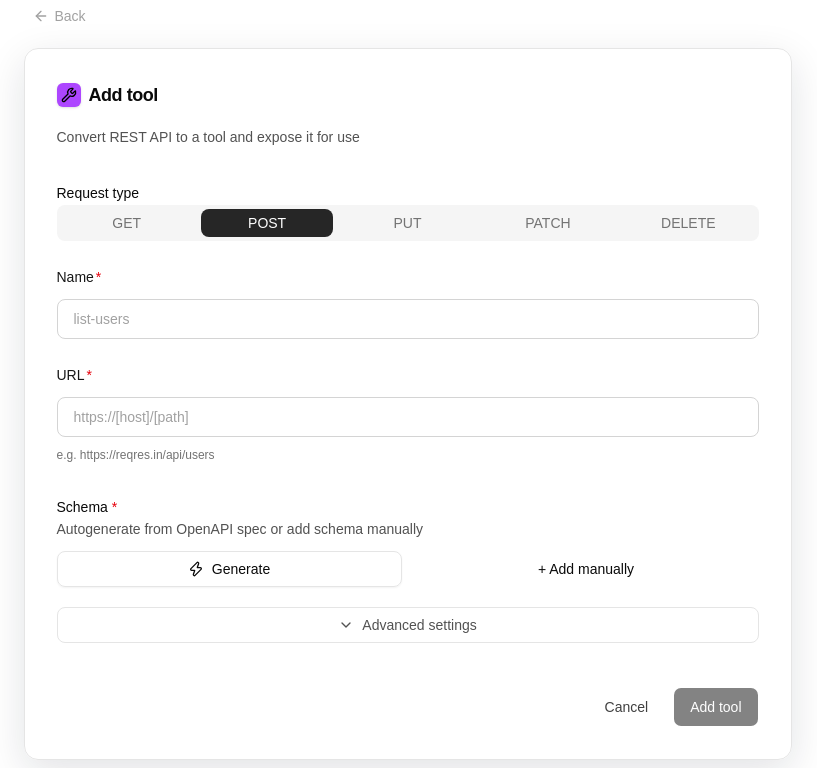
it: ToolForm › Accessibility – advanced settings panel › Authentication type radiogroup uses aria-labelledby
This screenshot has width=817, height=768.
Click the button "Advanced settings".
click(408, 625)  # box top-left (56, 607), bottom-right (758, 643)
(page scrolled)
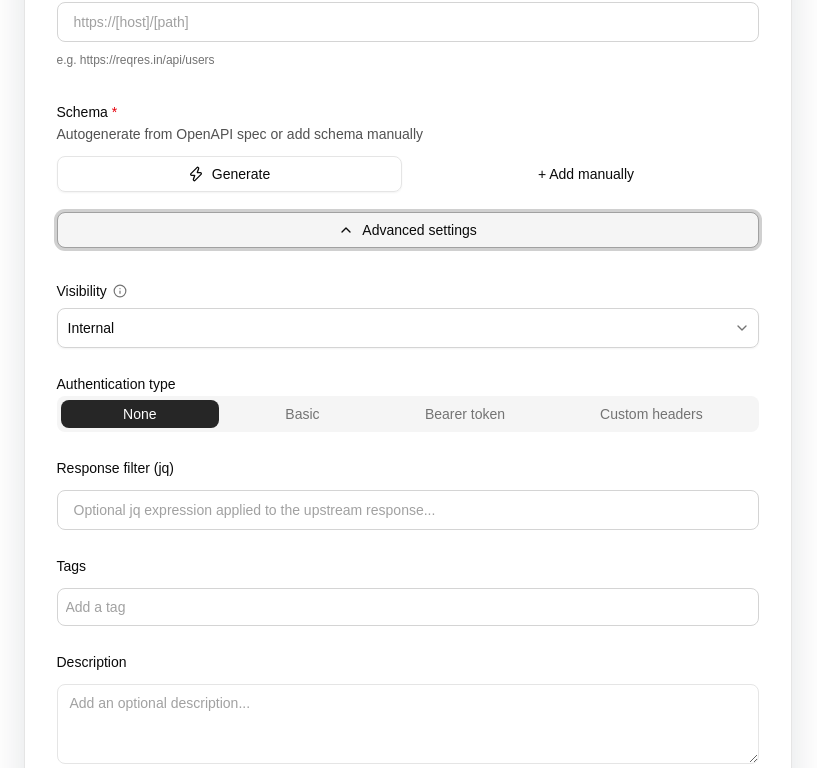
Result: the label "Authentication type" is shown at top-left (56, 376), bottom-right (176, 392)
